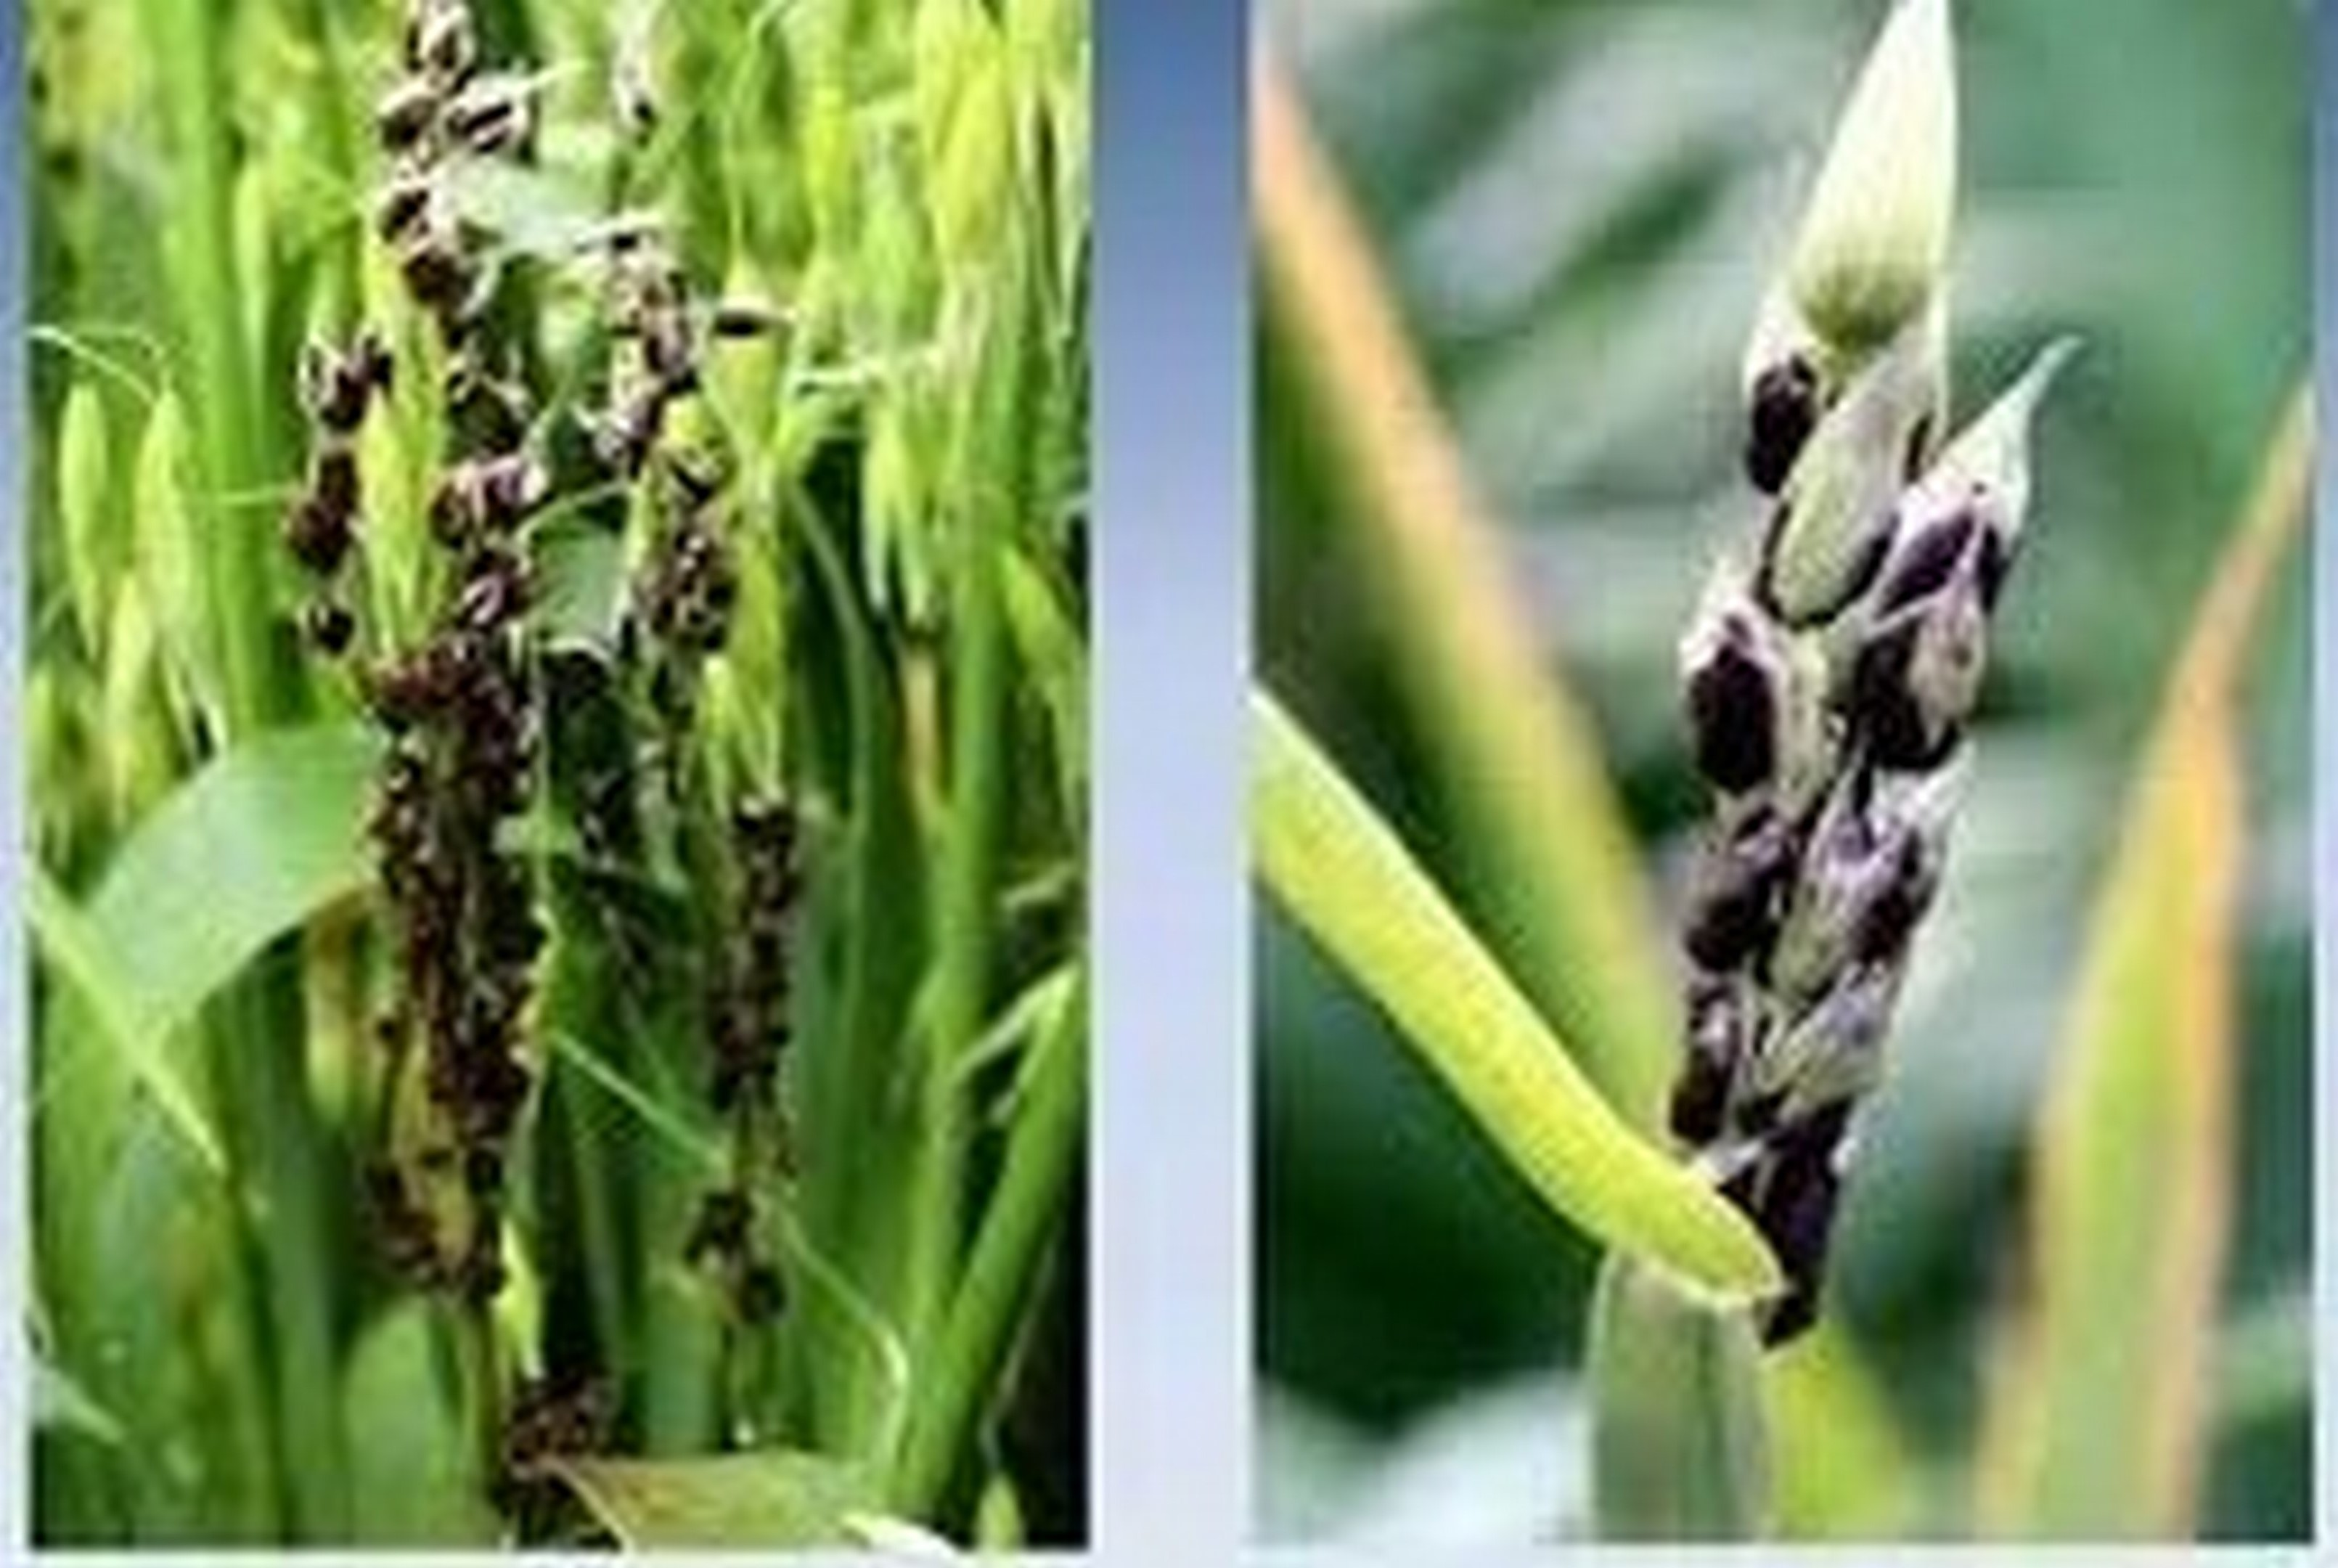Wheat Loose Smut: (275, 184, 868, 1262)
